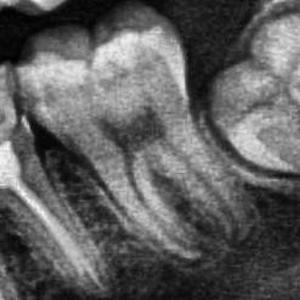tooth: (15, 2, 261, 263), (208, 2, 299, 181)
